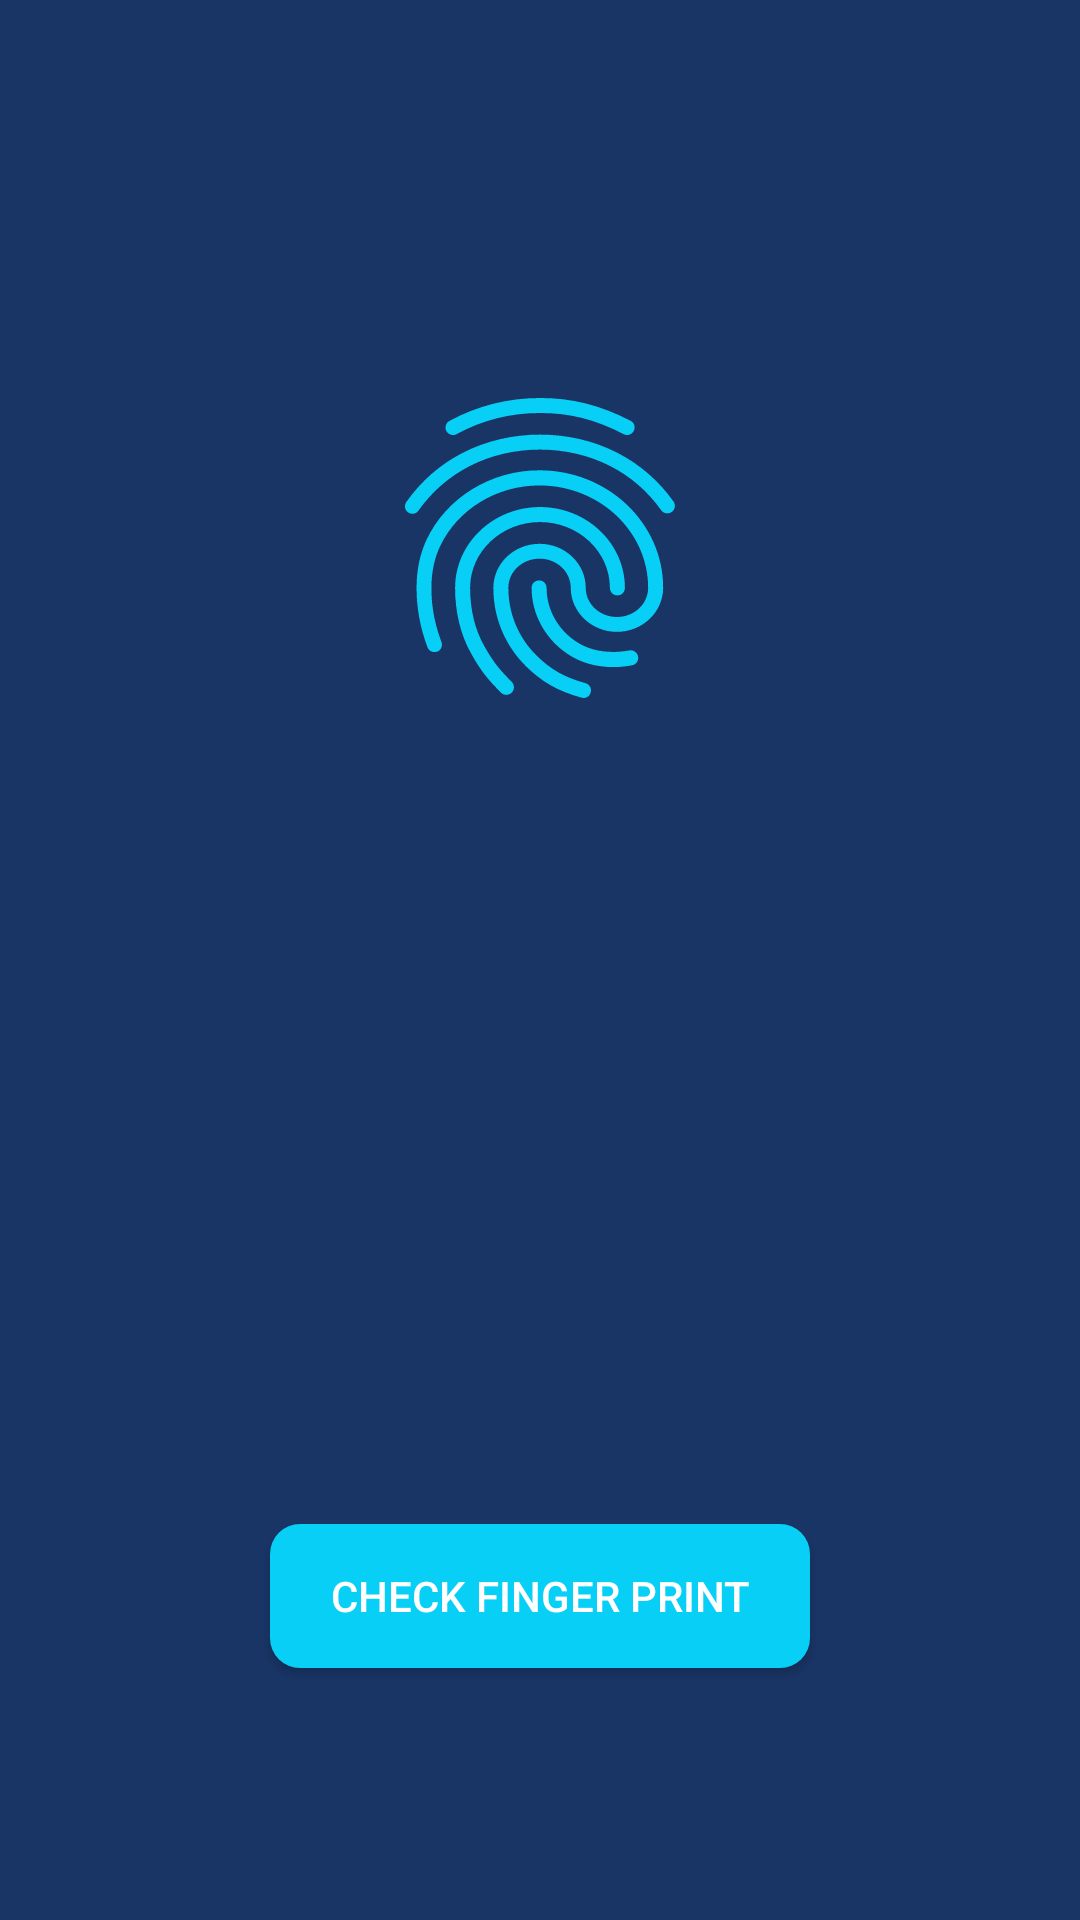

Locate icon controls on the screen. Image size 1080 x 1920, boxes as (x1, y1, x2, y2).
finger print: (405, 398, 675, 698)
